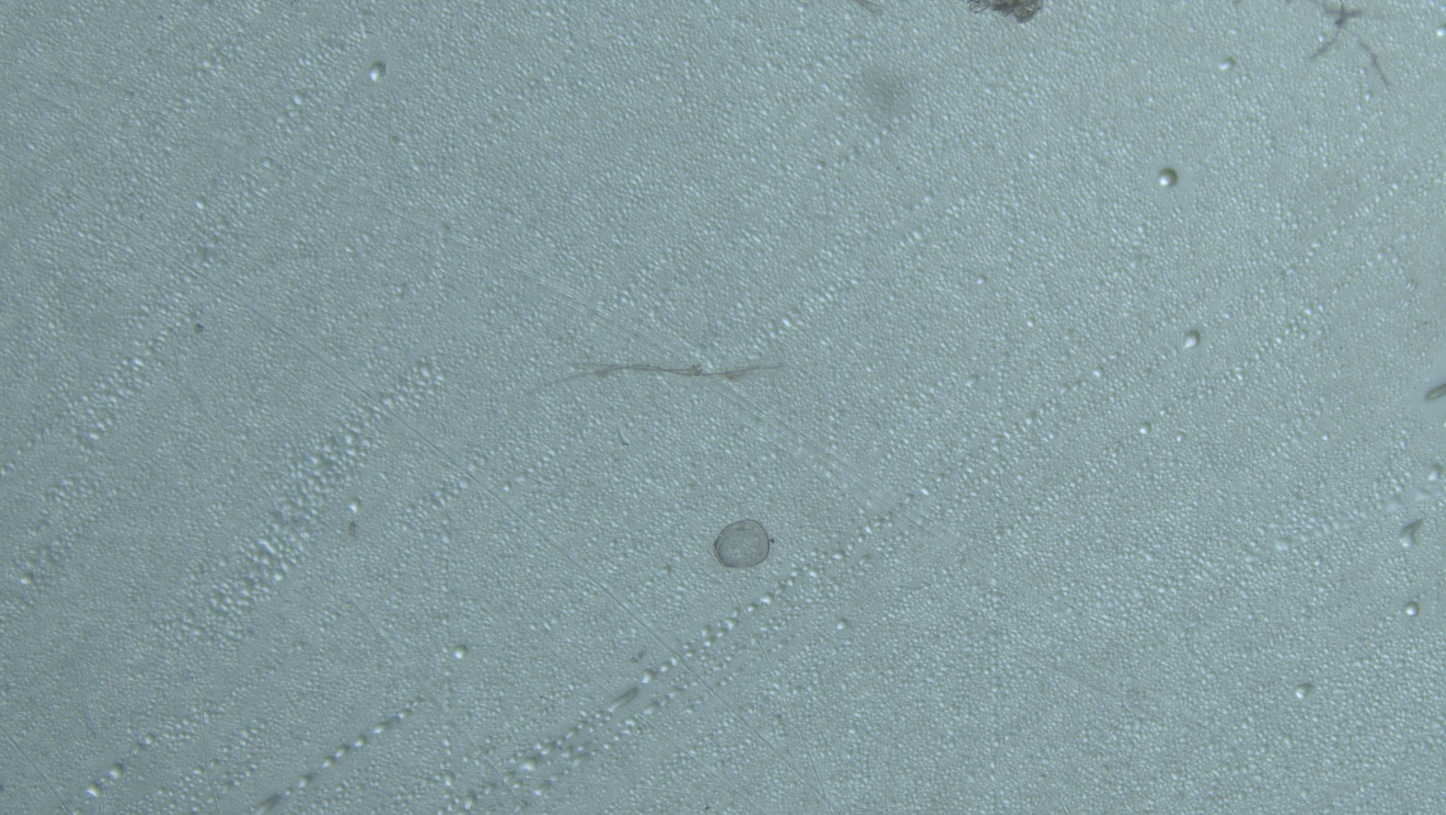dead: (714, 520, 771, 568)
